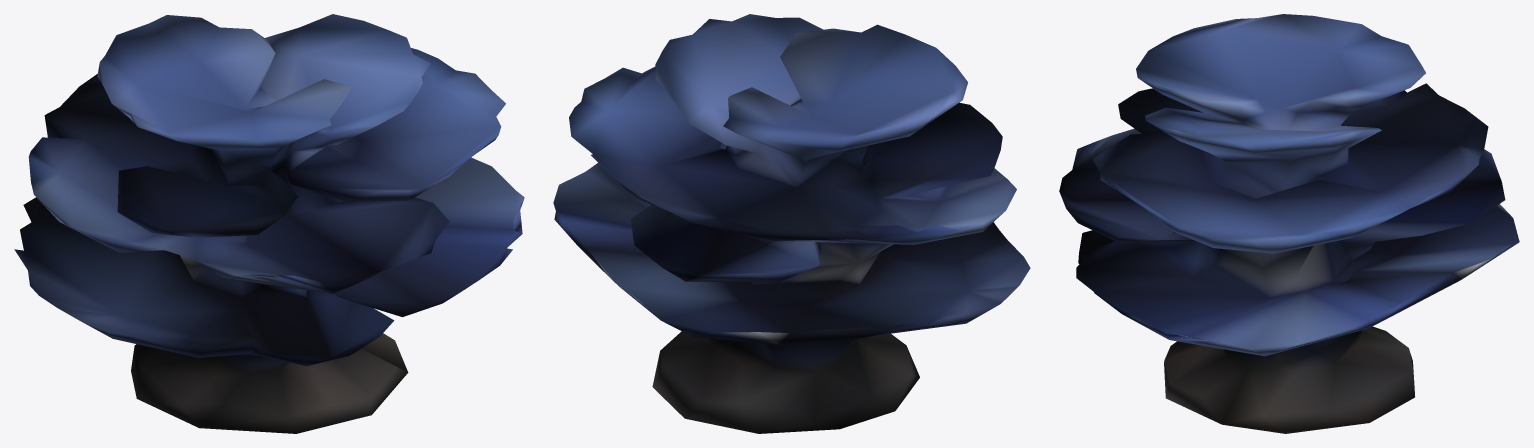
The model's file is coral_blue.glb.
The picture shows the model from 3 angles, left to right: view 1: azimuth 30°, elevation 25°; view 2: azimuth 150°, elevation 25°; view 3: azimuth 270°, elevation 25°; orthographic projection. The views are drawn at different scales.
Parts seen in each view (by area): view 1: CoralBlue; view 2: CoralBlue; view 3: CoralBlue.
Part boxes in pixels (box(x1,y1,x2,y2)): CoralBlue: box(14, 14, 524, 433); CoralBlue: box(553, 14, 1030, 433); CoralBlue: box(1059, 14, 1519, 433).
Size of the model in its own units: 1.49 by 0.9914 by 1.39.
